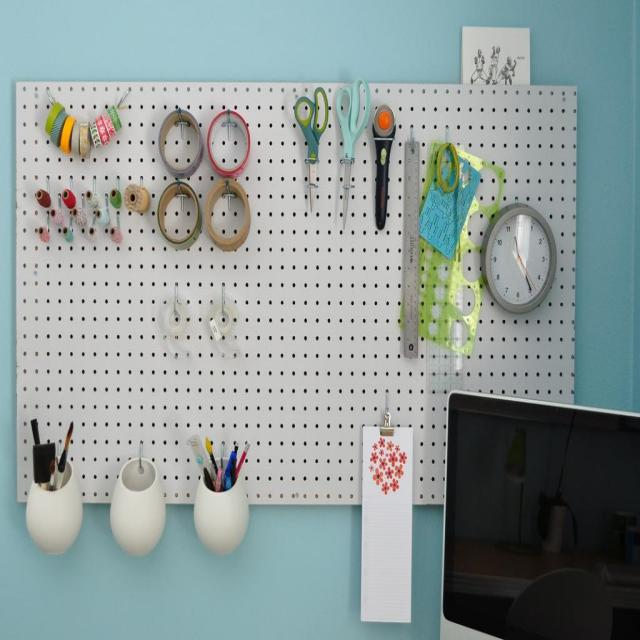scissor: (334, 78, 371, 231), (293, 88, 328, 212)
